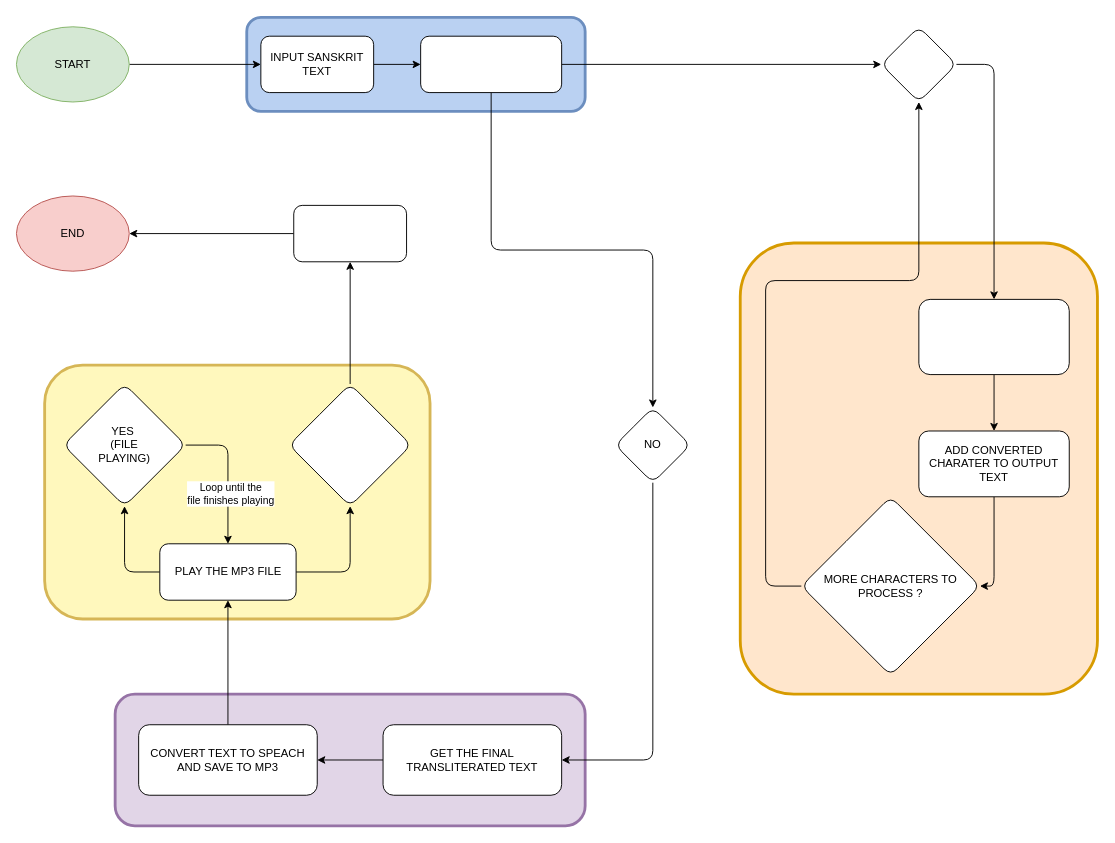
Image size: 1115x843. Some labels were removed from this diagram. Each missing label, with the box of its shape:
CONVERT CHARACTER TO ENGLISH EQUIVALENT: (918, 298, 1069, 375)
DISPLAY EXECUTION TIME: (293, 204, 407, 262)
NO (FILE NOT PLAYING): (288, 383, 411, 506)
TRANSLITERATE SANSKRIT TO ENGLISH: (420, 35, 562, 93)
YES: (880, 26, 956, 102)
